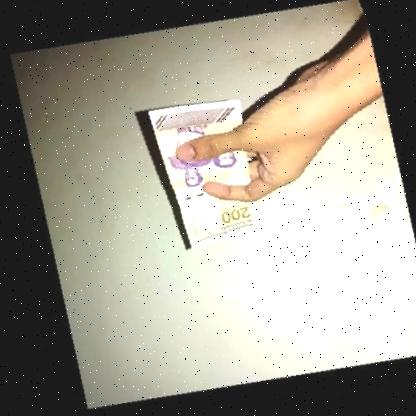two_hundred-front-vef: (139, 96, 262, 255)
